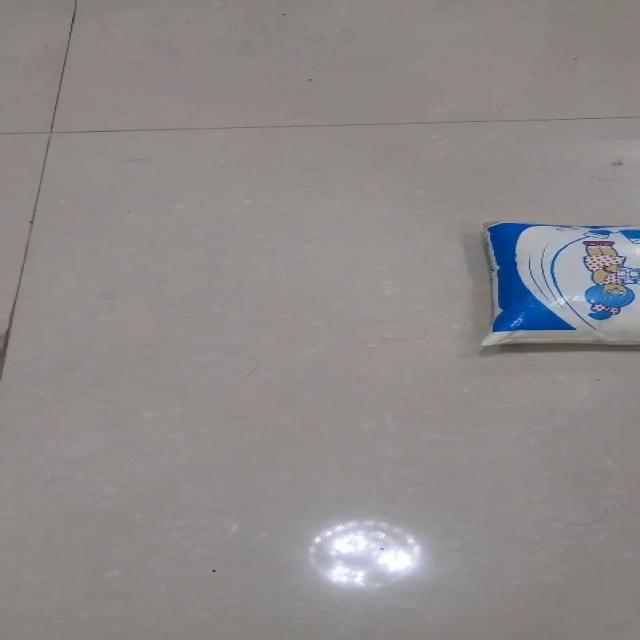plastic: (478, 218, 639, 346)
